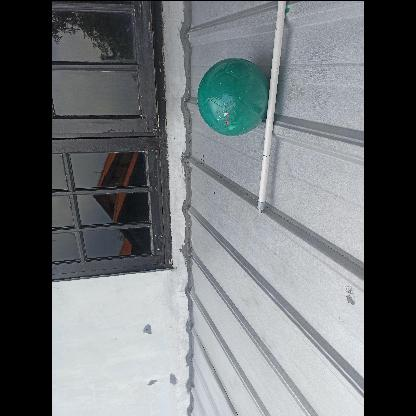green_ball: (194, 58, 270, 136)
